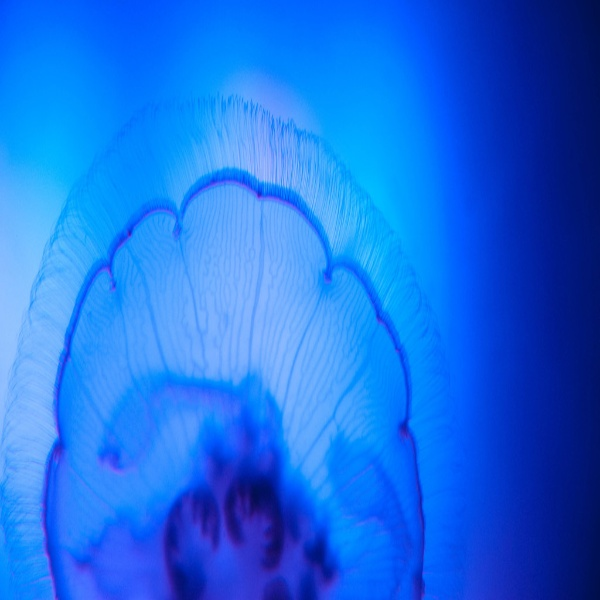Jellyfish: (29, 101, 462, 600)
